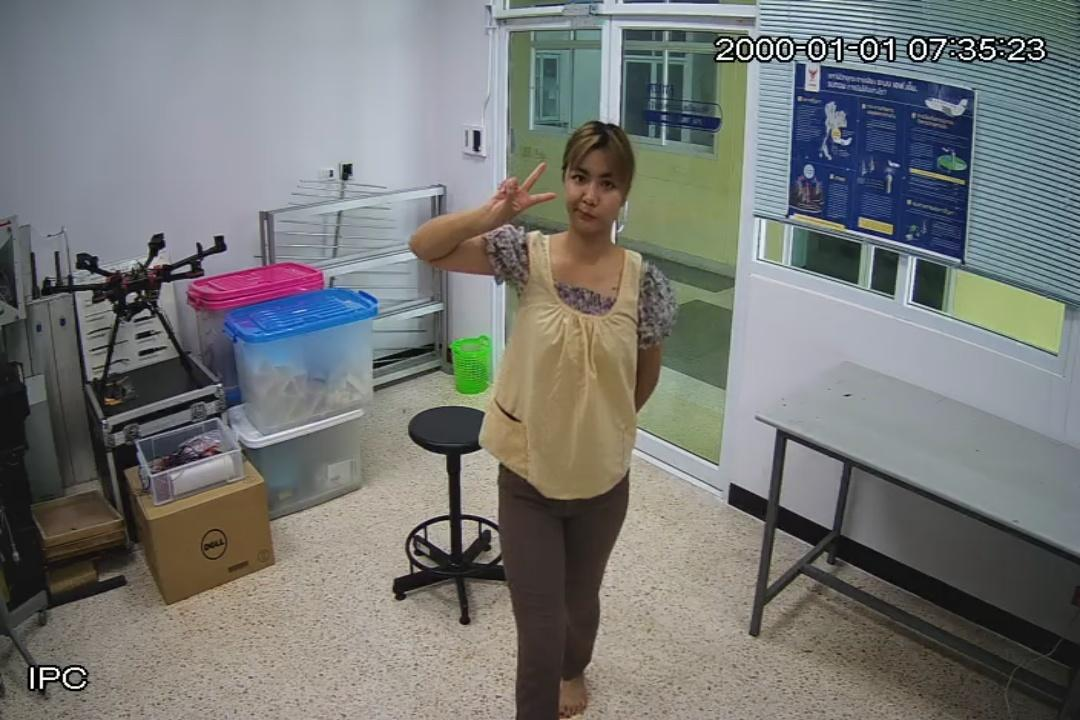normal: (408, 124, 670, 720)
